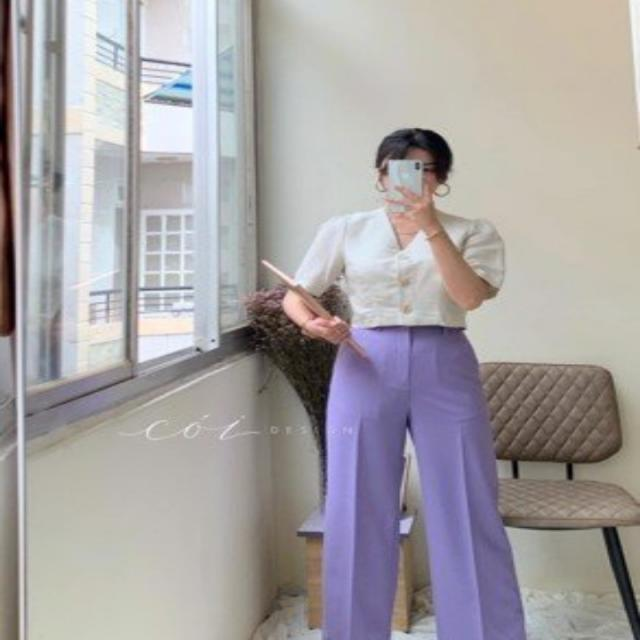clothes: (292, 205, 524, 640)
